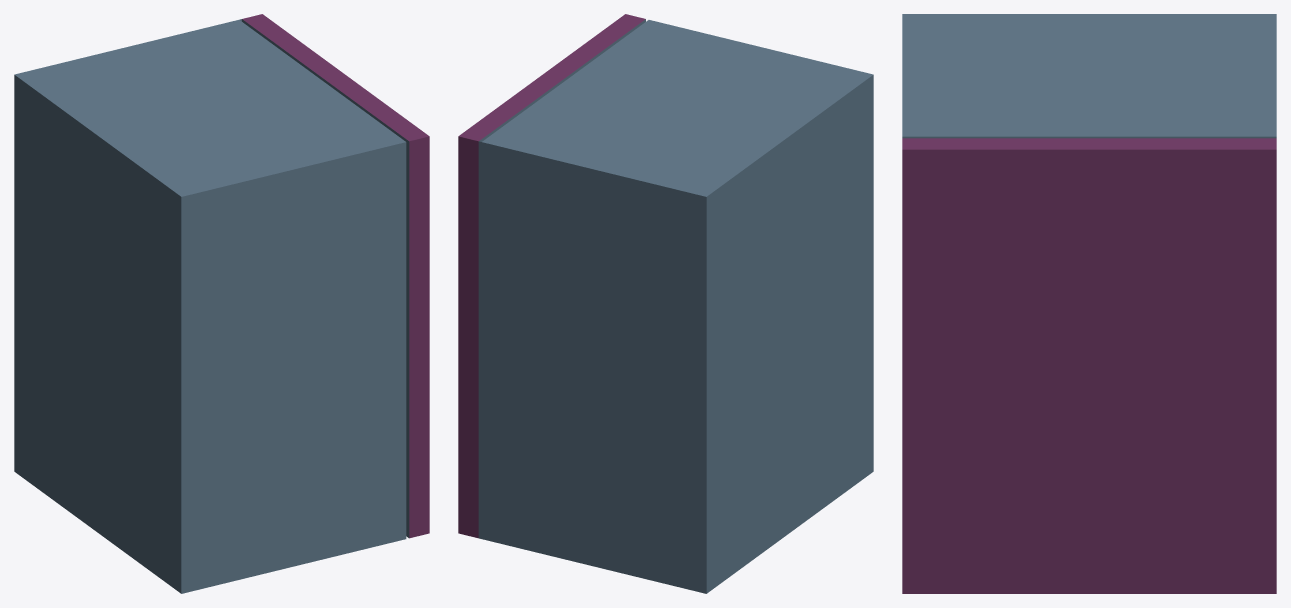
The model's file is fridge.glb.
3 renders of one model, left to right at view 1: azimuth 30°, elevation 25°; view 2: azimuth 150°, elevation 25°; view 3: azimuth 270°, elevation 25°, orthographic. The views are drawn at different scales.
Visible parts, largest first — view 1: fridge; view 2: fridge; view 3: fridge.
Part boxes in pixels (bbox=[...]): fridge: bbox=[14, 14, 429, 593]; fridge: bbox=[458, 14, 873, 593]; fridge: bbox=[902, 14, 1276, 593].
Bounding box in the file's own units: 1.2 × 1.83 × 1.4.
Materials: 2 (2 with a texture image).
